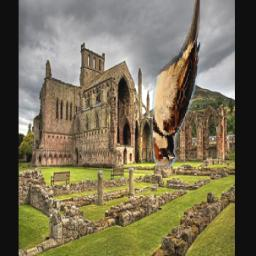Swallow: (151, 0, 201, 167)
